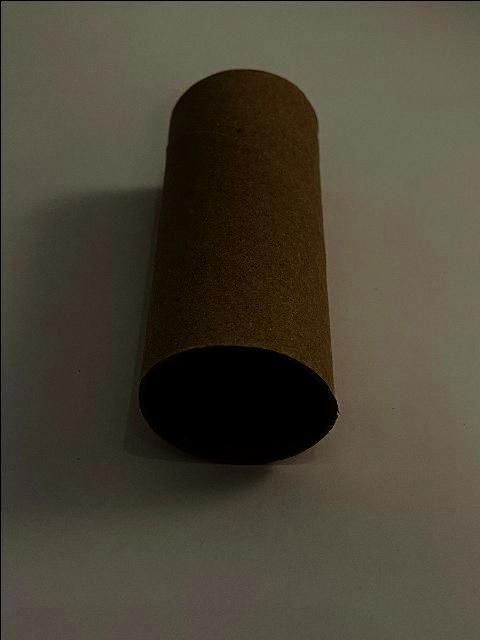tissueroll: (134, 65, 342, 467)
